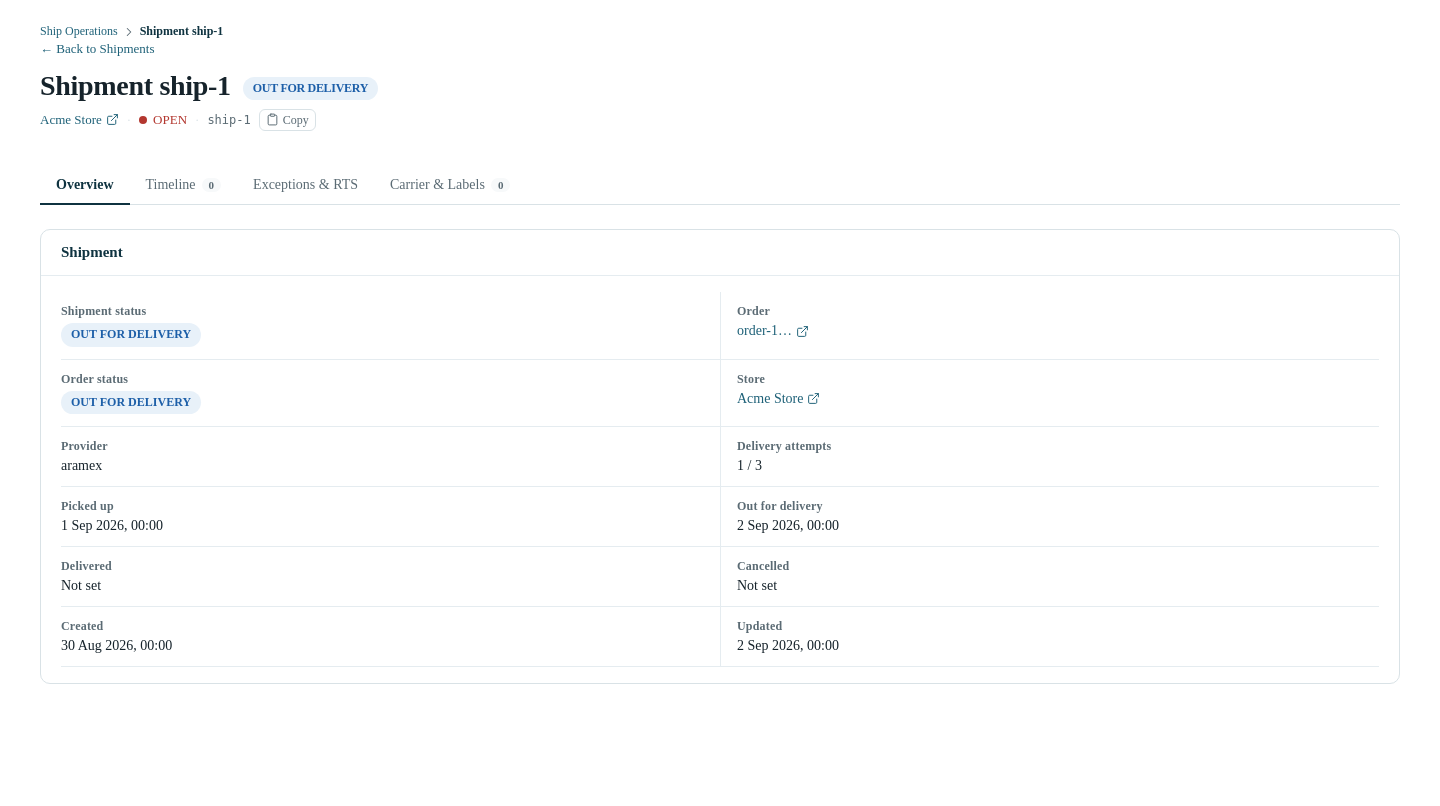
Test: ShipmentDetailConsole — RTS lifecycle › reports a mutation error inline
The image size is (1440, 806).
Step 1. Click the tab "Exceptions & RTS" → coordinates (306, 186), box [237,167,374,205]
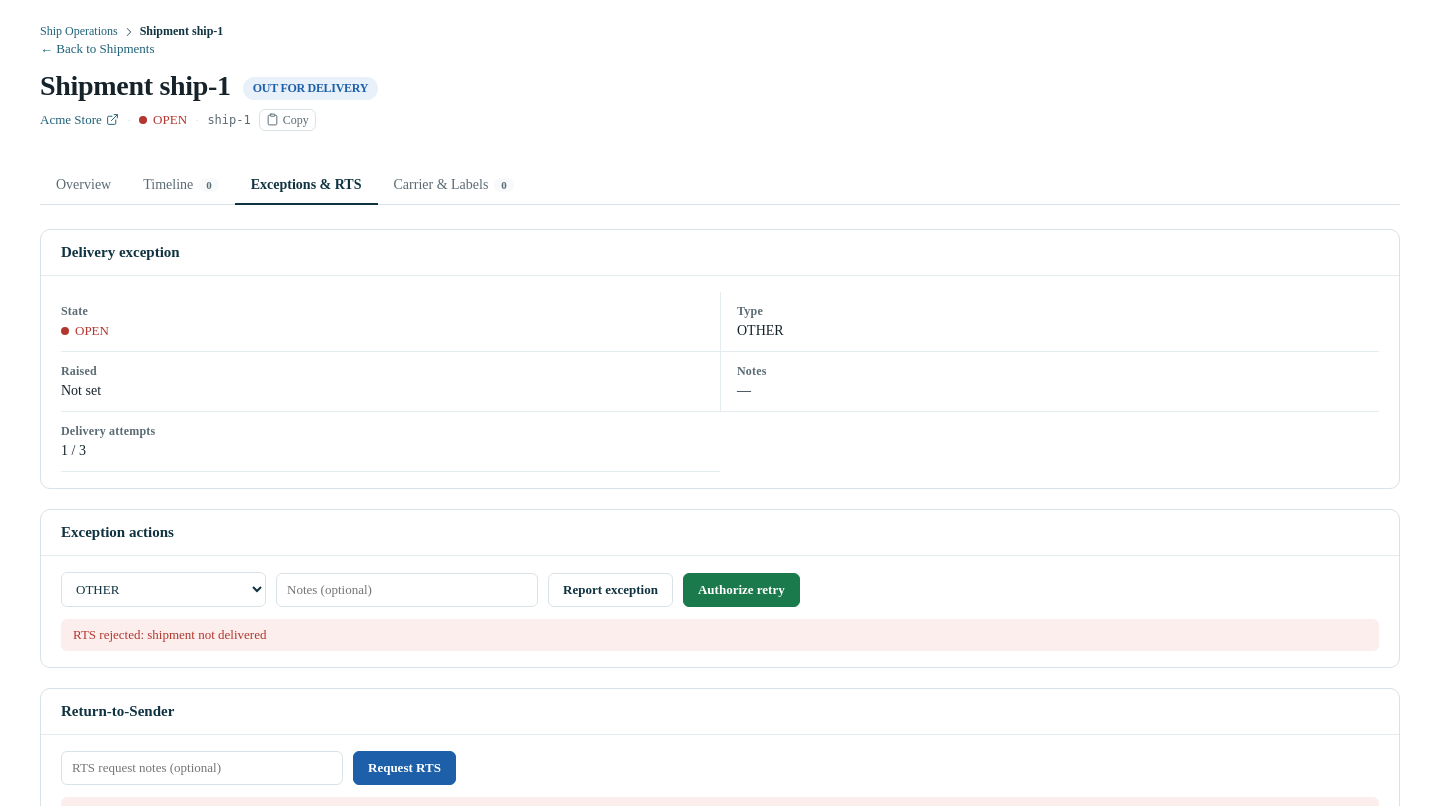
Expected: the text "RTS rejected: shipment not delivered" below "Exception actions" is shown, [73,627,266,642]
